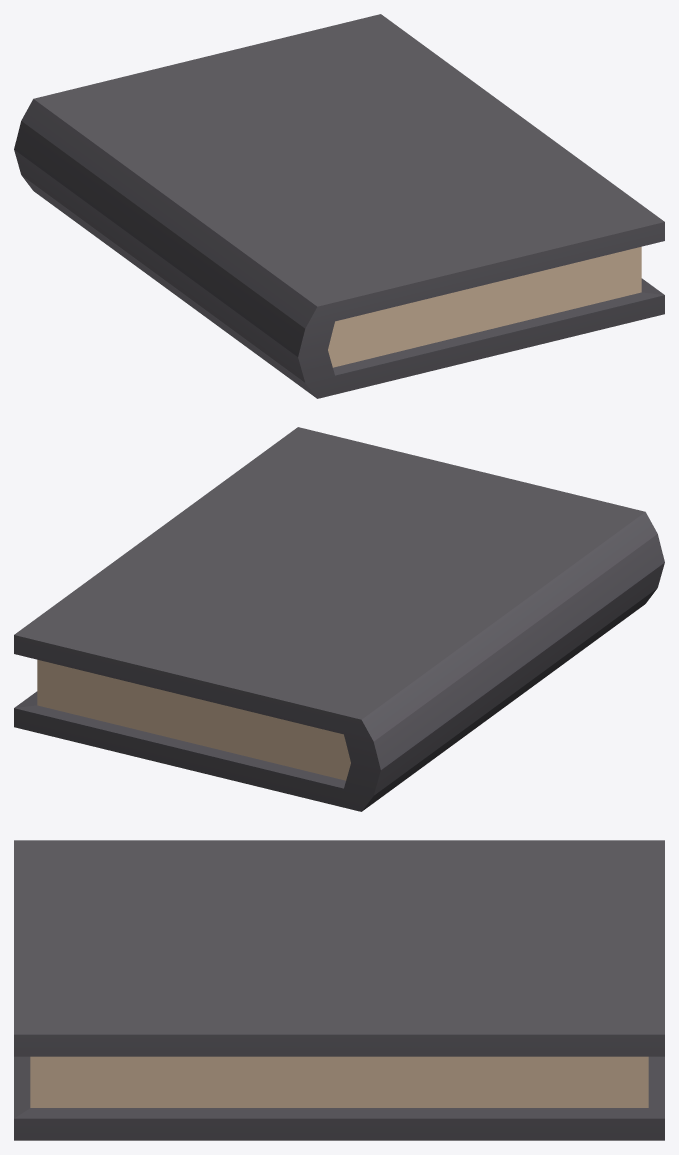
Rendered from Book_01.fbx.
3 views of the same model, one above another, from view 1: azimuth 30°, elevation 25°; view 2: azimuth 150°, elevation 25°; view 3: azimuth 270°, elevation 25° (orthographic). The views are drawn at different scales.
Parts seen in each view (by area): view 1: Book_01; view 2: Book_01; view 3: Book_01.
Boxes of the visible parts, x1,y1,x2,y2 form: Book_01: (14,14,664,398); Book_01: (14,427,664,811); Book_01: (14,840,664,1140).
Bounding box in the file's own units: 19.89 × 4.78 × 26.67.
